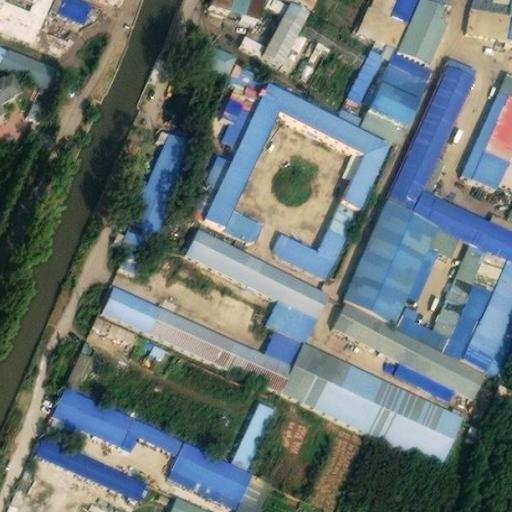building: (206, 83, 387, 223), (102, 279, 307, 390), (283, 336, 463, 461), (331, 295, 485, 393), (390, 56, 478, 201), (186, 223, 331, 310), (400, 235, 508, 351), (343, 192, 440, 313), (53, 380, 184, 450), (35, 429, 146, 494), (415, 184, 512, 255), (131, 121, 193, 229), (274, 195, 359, 270), (461, 68, 512, 182), (167, 434, 253, 501), (463, 253, 512, 364), (221, 59, 272, 142), (300, 10, 373, 63), (406, 221, 459, 294), (363, 75, 420, 136), (397, 0, 456, 58), (231, 396, 276, 463), (383, 43, 434, 92), (347, 42, 390, 99), (267, 291, 319, 336), (231, 465, 275, 512), (360, 1, 408, 40), (115, 219, 151, 269), (199, 34, 242, 72), (464, 0, 512, 34), (65, 344, 98, 387), (224, 204, 263, 237), (167, 490, 223, 512), (205, 147, 235, 185), (370, 0, 415, 18), (141, 338, 168, 363), (0, 68, 17, 106), (489, 202, 512, 224), (60, 0, 89, 13)
